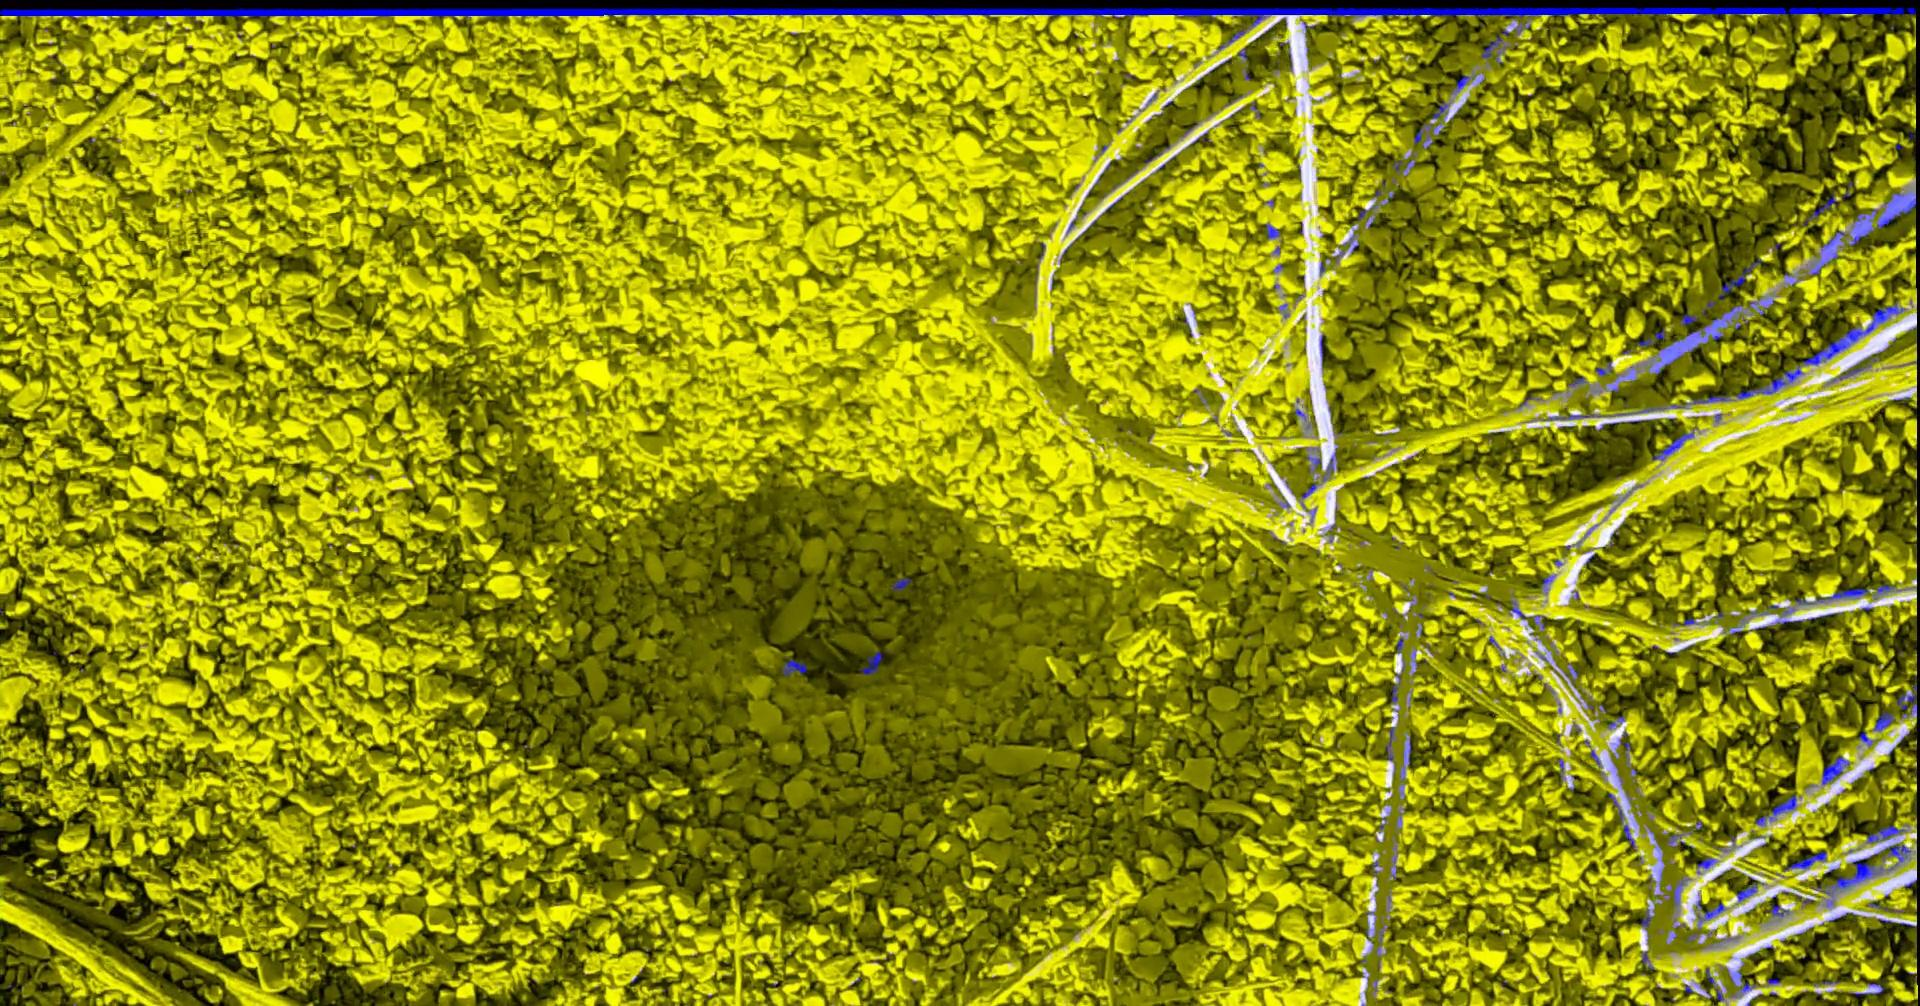ant: (1801, 301, 1902, 365), (1735, 365, 1801, 398), (1830, 850, 1882, 888), (1717, 258, 1761, 298), (1754, 794, 1796, 824), (1876, 198, 1916, 227), (1652, 432, 1693, 460), (1802, 193, 1837, 225), (1509, 601, 1545, 627), (1481, 28, 1509, 58), (1821, 754, 1849, 784), (1895, 682, 1919, 714), (1832, 359, 1869, 380), (1815, 587, 1868, 601), (1785, 851, 1826, 869), (1736, 876, 1763, 901), (1865, 826, 1903, 842), (1634, 326, 1665, 345), (860, 650, 883, 674), (780, 655, 806, 676), (1697, 902, 1723, 921), (1883, 843, 1910, 861), (1873, 710, 1895, 730), (1545, 413, 1600, 420), (1737, 970, 1755, 991), (1622, 824, 1636, 850), (1451, 75, 1473, 90), (1390, 673, 1401, 702), (1691, 395, 1728, 403), (1431, 100, 1446, 118), (1595, 359, 1611, 375), (1385, 727, 1393, 760), (891, 577, 910, 589), (1768, 904, 1787, 916), (1870, 583, 1895, 592), (1697, 856, 1714, 868), (1639, 909, 1651, 927), (1265, 224, 1279, 238), (1680, 312, 1697, 324)
